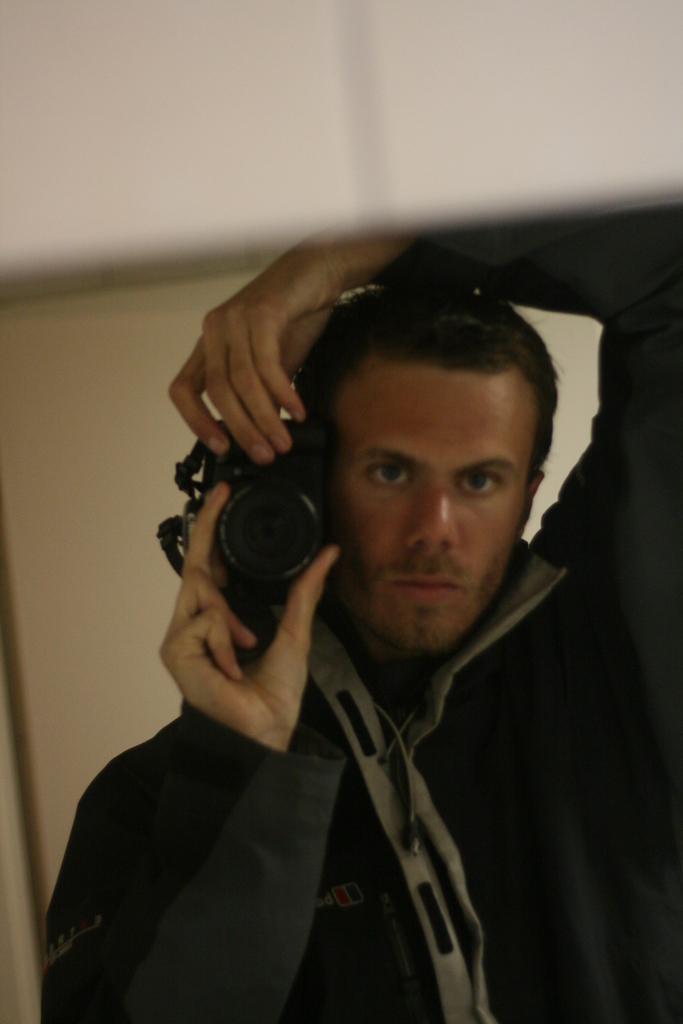Human-face: (329, 361, 527, 669)
